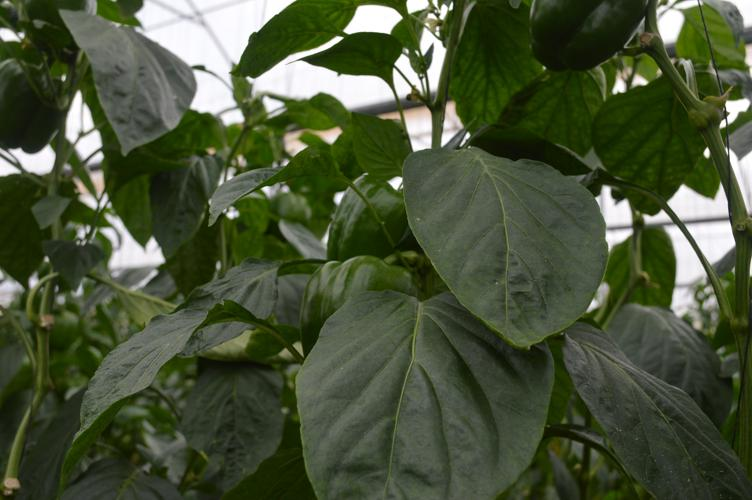BellPepper: (293, 253, 421, 351), (524, 1, 659, 75), (326, 175, 408, 258)
